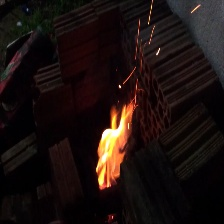fire: (90, 96, 144, 195)
